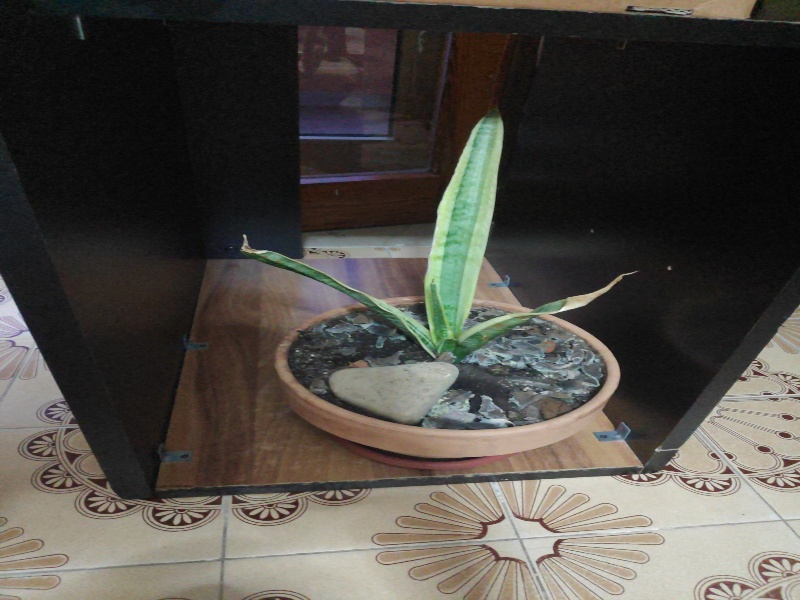plant: (235, 81, 657, 474)
